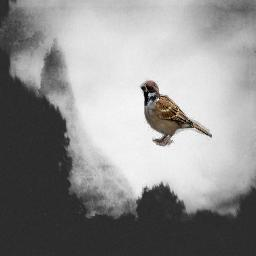Sparrow: (138, 79, 212, 148)
